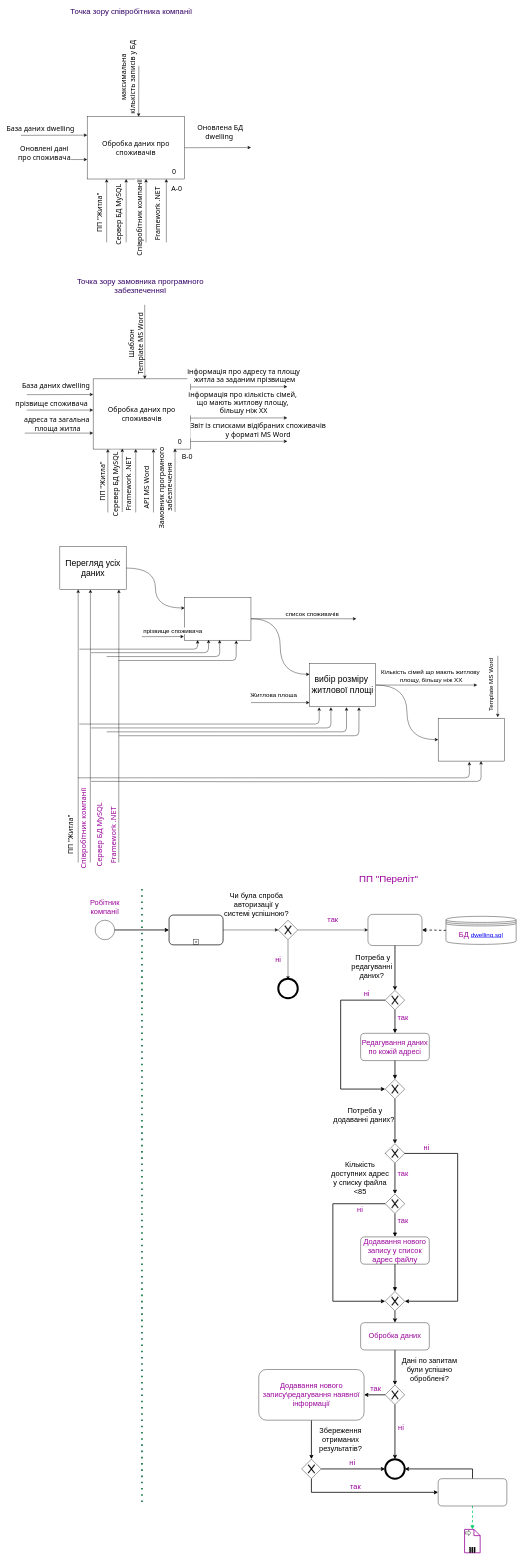
Some shapes in this 523 by 1560 pixel diagram are drawn without their labels. The box of each missing label's shape, as (x1, y1, x2, y2) in pixels:
Авторизація у системі: (169, 915, 223, 945)
вибір споживача: (184, 597, 251, 640)
Збереження даних в MS Word: (438, 1478, 507, 1506)
Перегляд данних про мешканців: (368, 914, 422, 946)
Формування звіту в MS Word: (438, 718, 504, 761)
